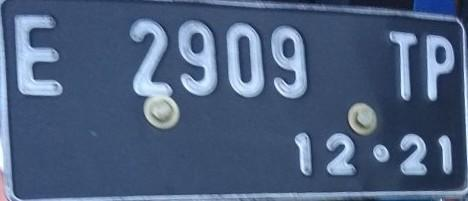clone-license-plate: (1, 1, 467, 195)
